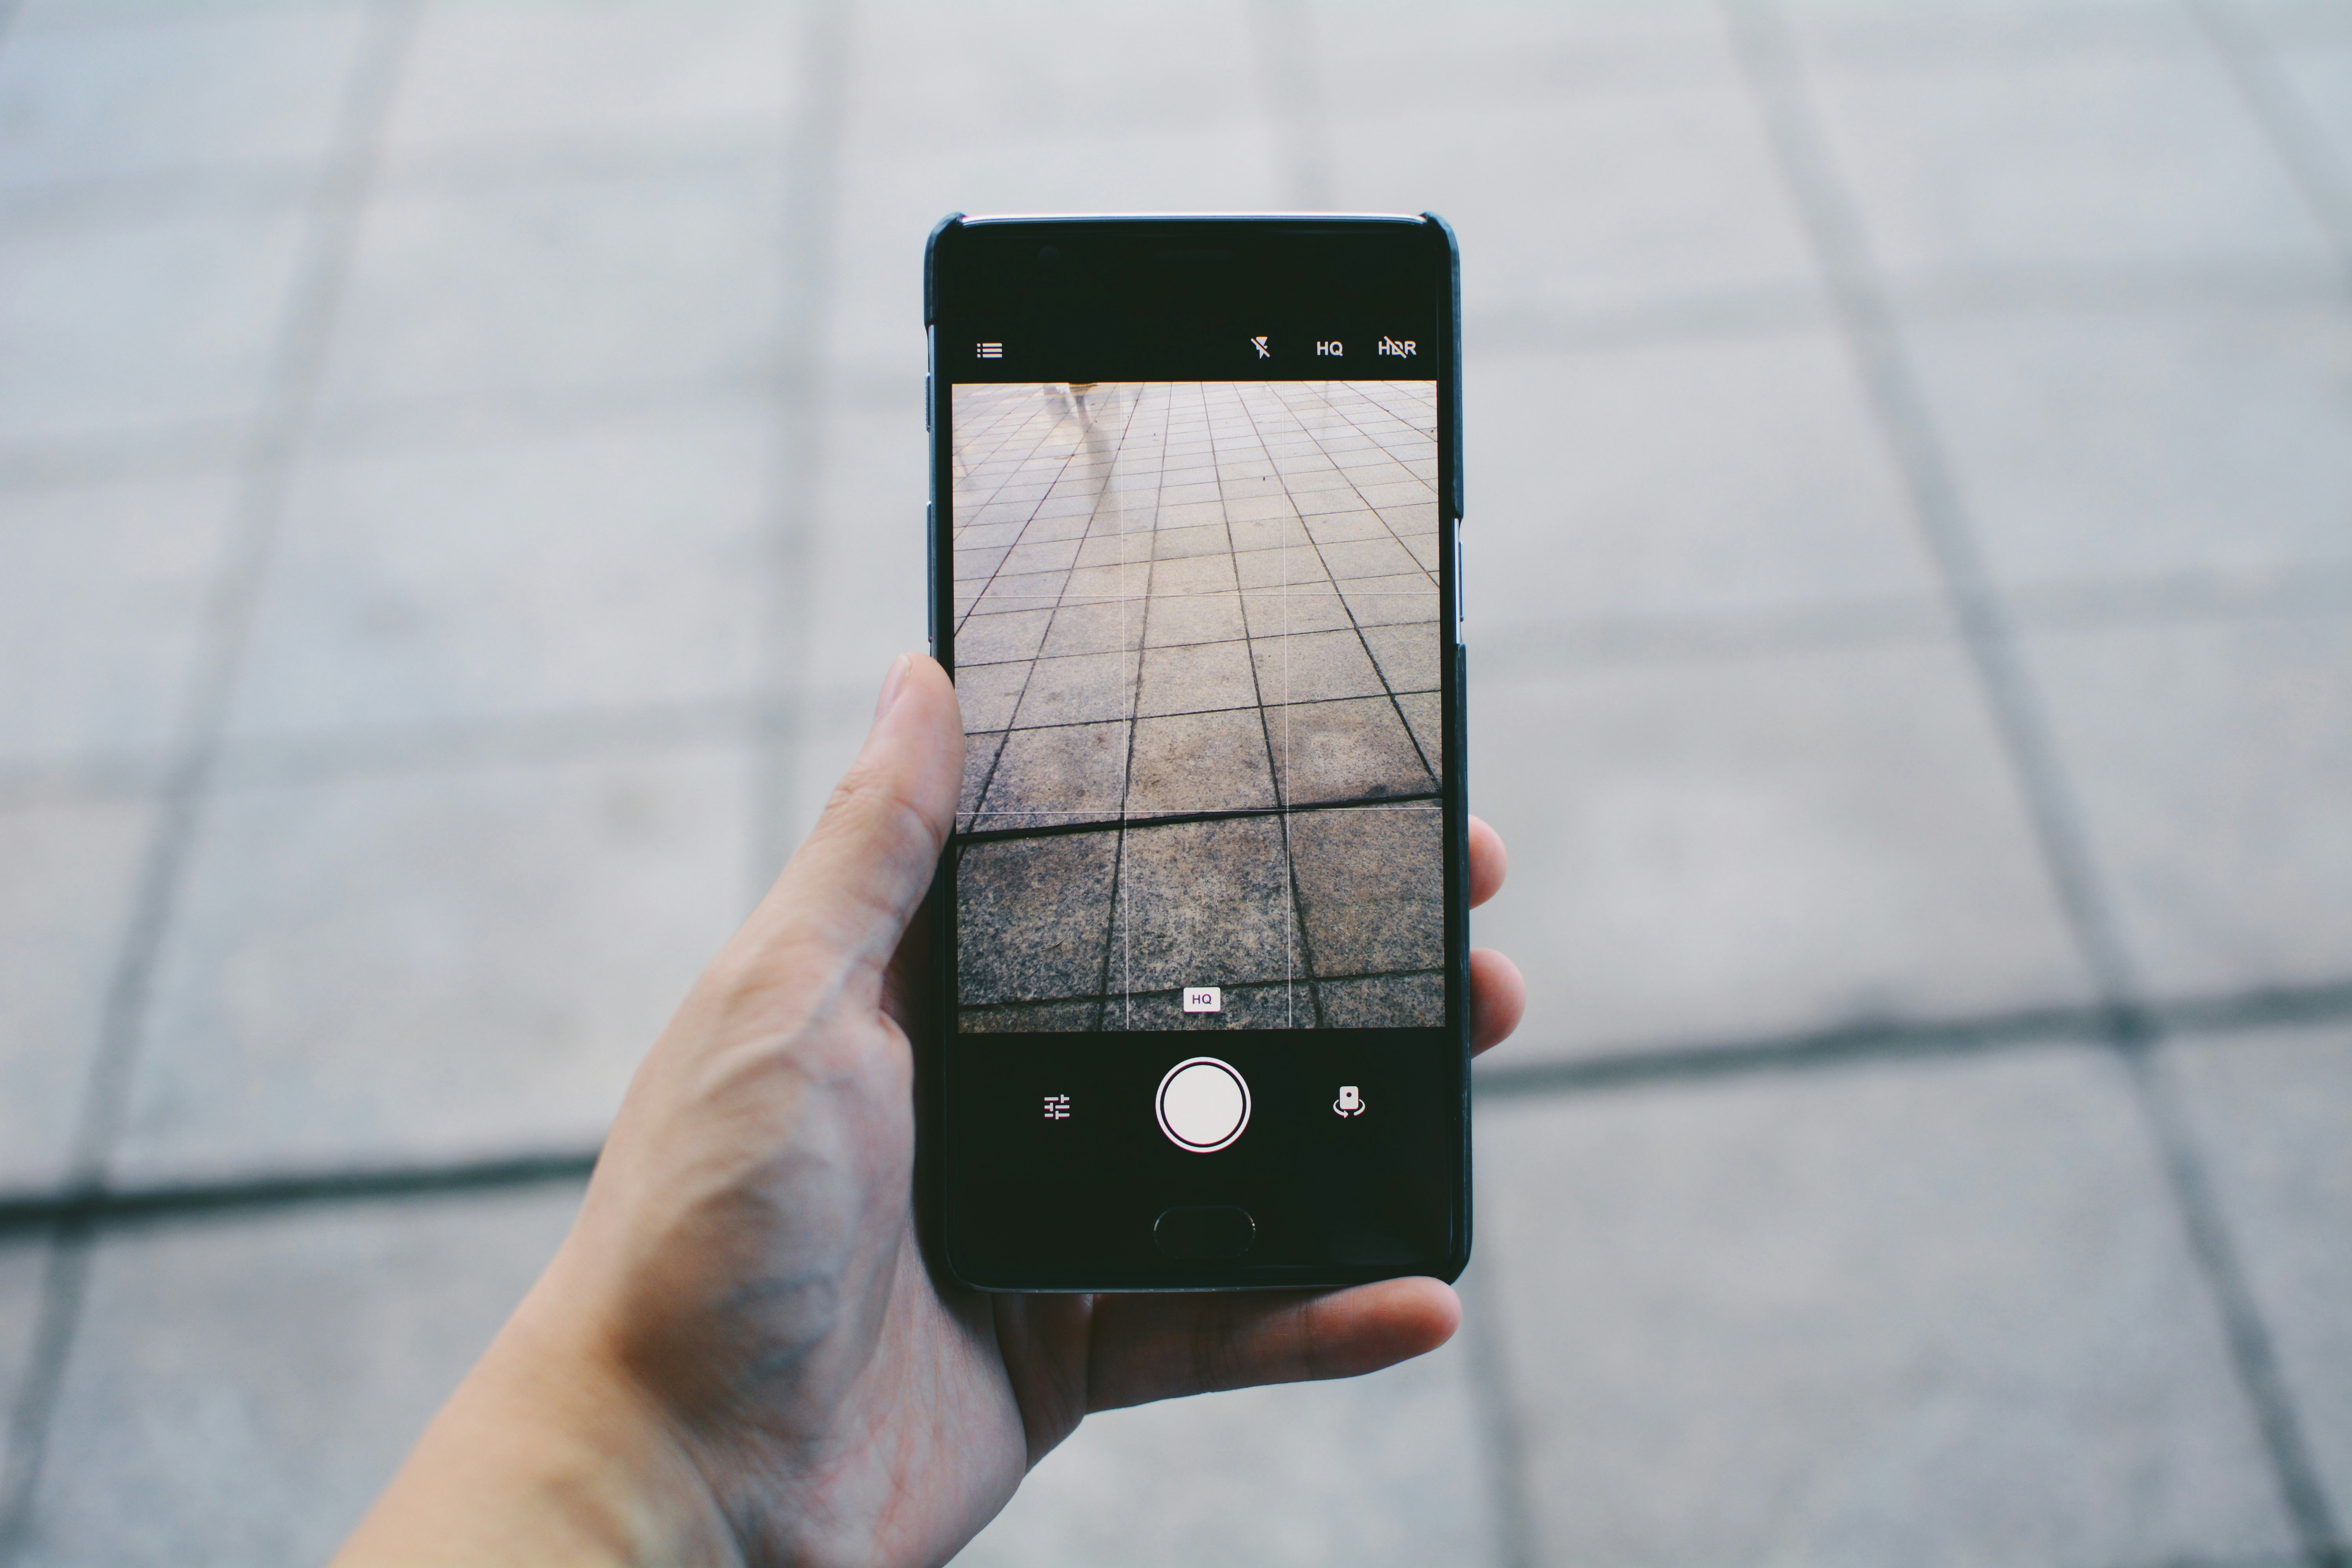p6: (910, 198, 1494, 1307)
